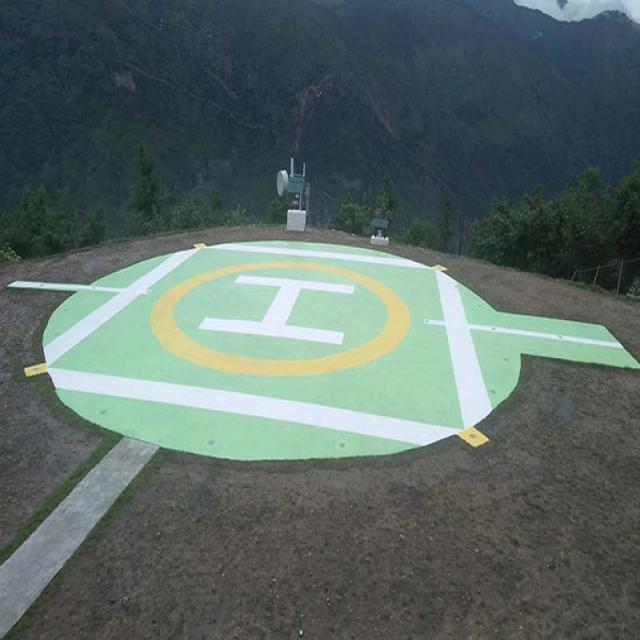helipad: (144, 254, 411, 381)
